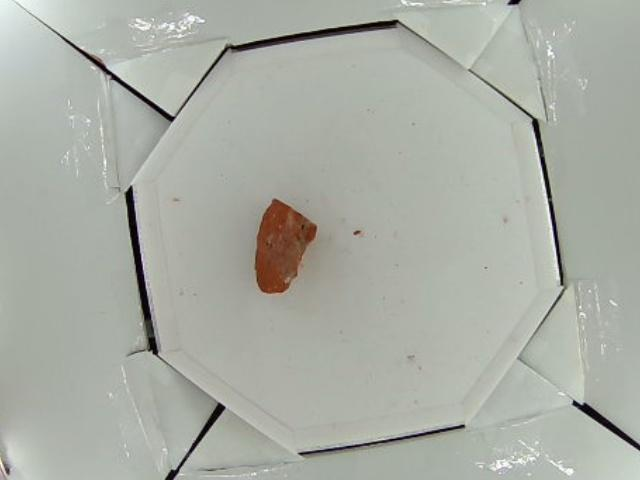Brisk: (254, 198, 317, 294)
